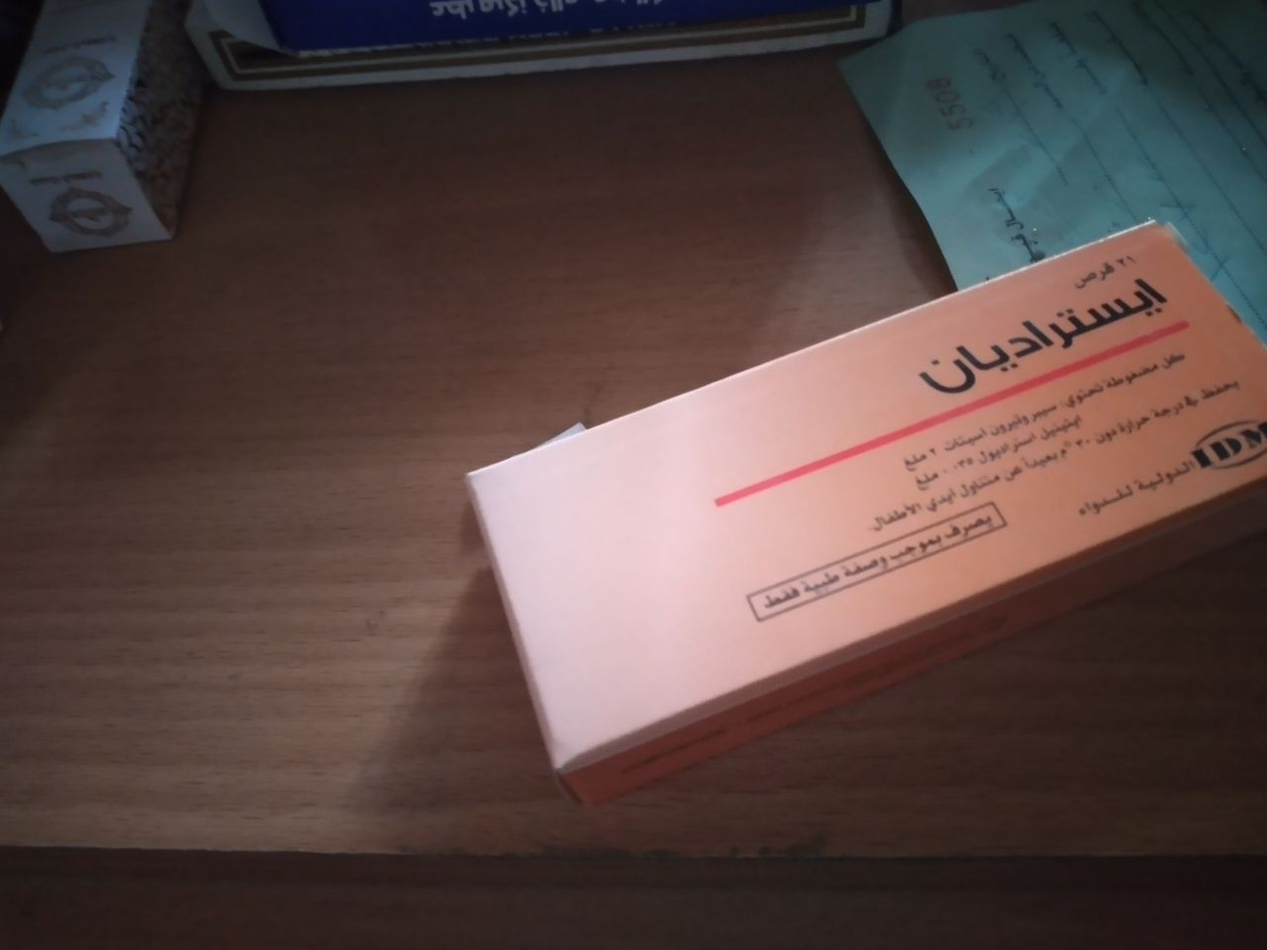Medicine: (465, 208, 1267, 816)
